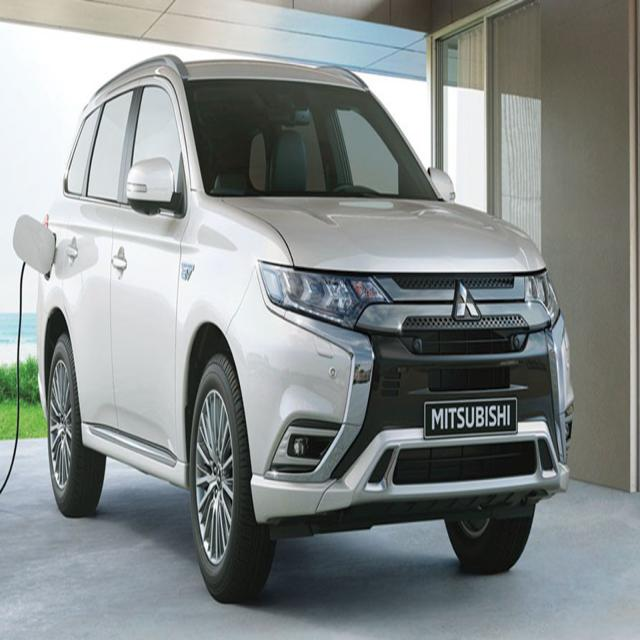light_vehicle: (33, 53, 575, 602)
